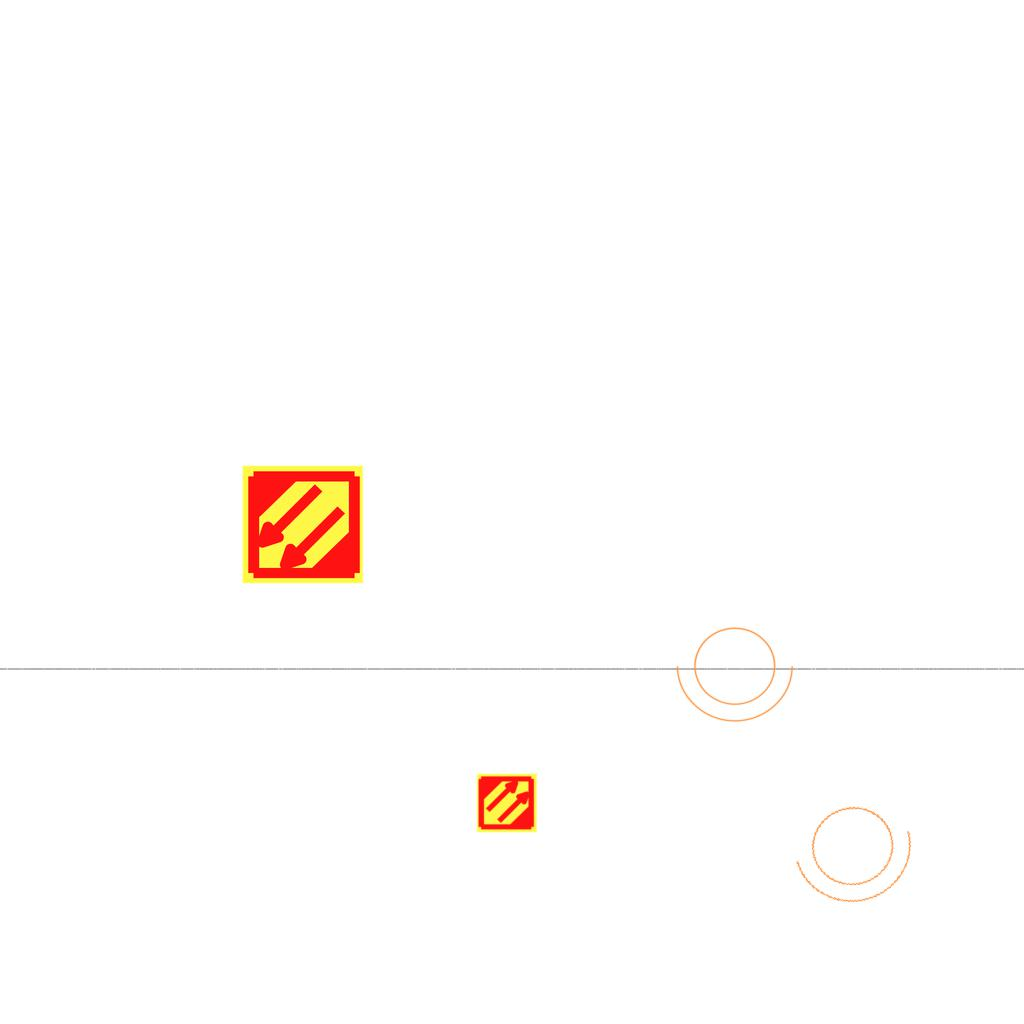ASR_Ansaugrauchmelder: (240, 462, 365, 587), (476, 772, 538, 834)
Scheinwerfer_fuer_Alarmbeleuchtung: (778, 778, 936, 922), (672, 615, 804, 727)
